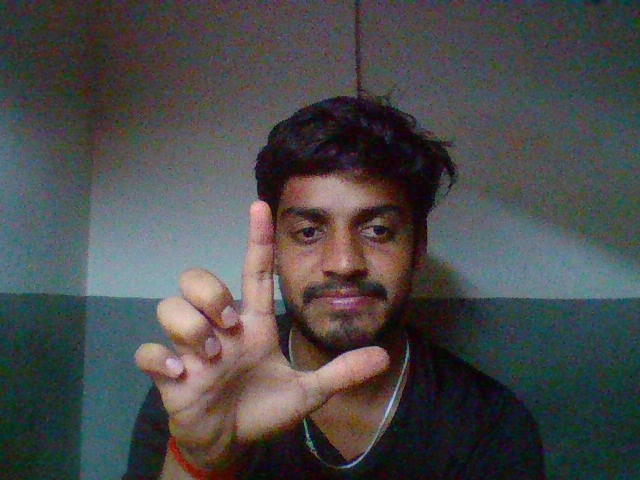L: (123, 197, 396, 446)
